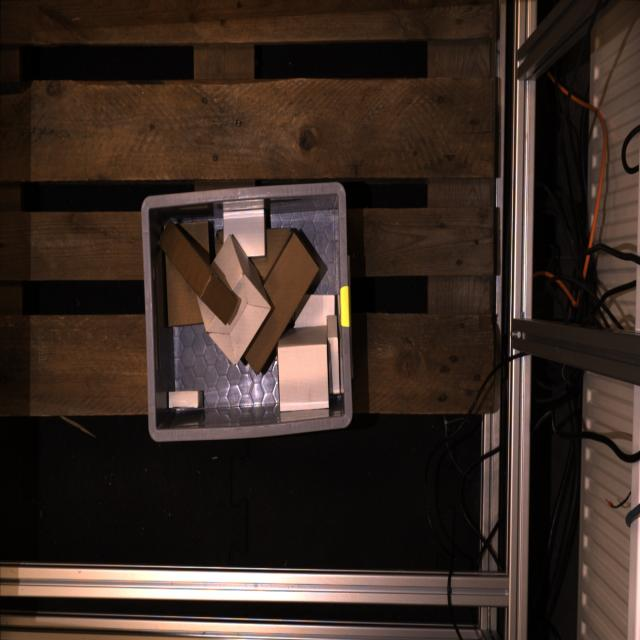CardboardBox: (242, 231, 327, 375), (196, 235, 270, 364), (159, 221, 240, 323), (278, 326, 329, 411), (165, 255, 203, 326), (224, 208, 265, 257), (252, 228, 291, 279), (294, 294, 335, 327), (180, 220, 214, 259), (327, 316, 340, 394), (169, 390, 204, 408), (216, 230, 223, 250)
